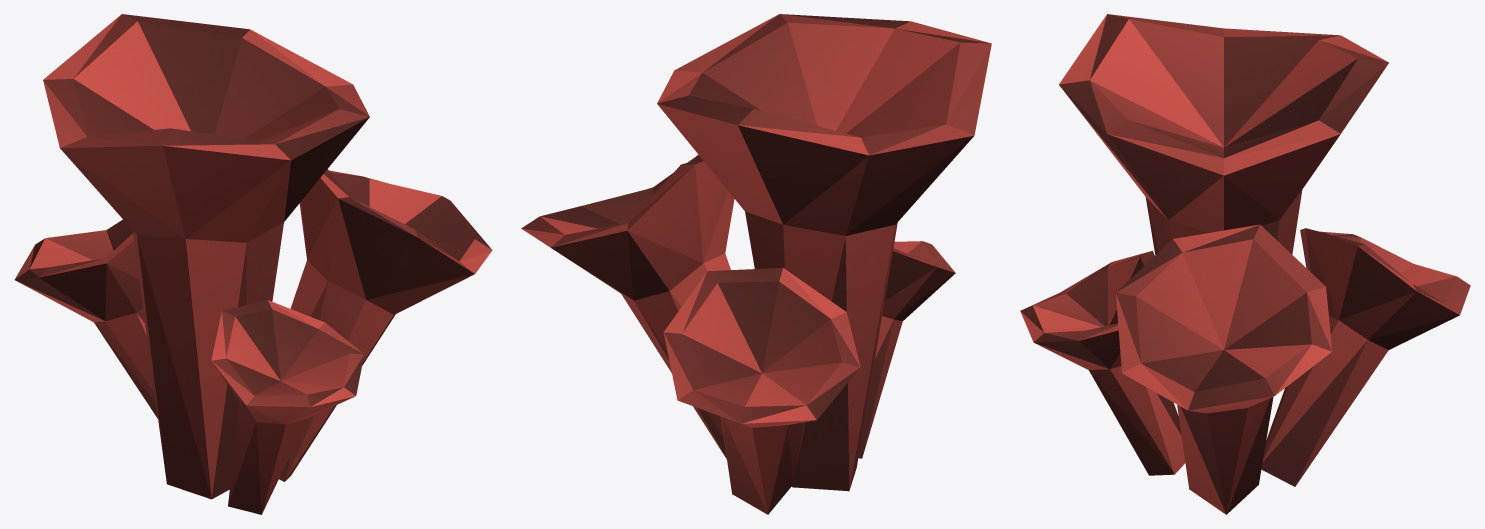
File: Mushroom_Gr_5B.fbx
The picture shows the model from 3 angles, left to right: view 1: azimuth 30°, elevation 25°; view 2: azimuth 150°, elevation 25°; view 3: azimuth 270°, elevation 25°; orthographic projection. The views are drawn at different scales.
Visible parts, largest first — view 1: polySurface691; view 2: polySurface691; view 3: polySurface691.
Boxes of the visible parts, x1,y1,x2,y2 form: polySurface691: (14, 14, 492, 514); polySurface691: (521, 14, 991, 514); polySurface691: (1020, 14, 1470, 514).
Bounding box in the file's own units: 127 × 125 × 122.
1 material, 1 textured.
